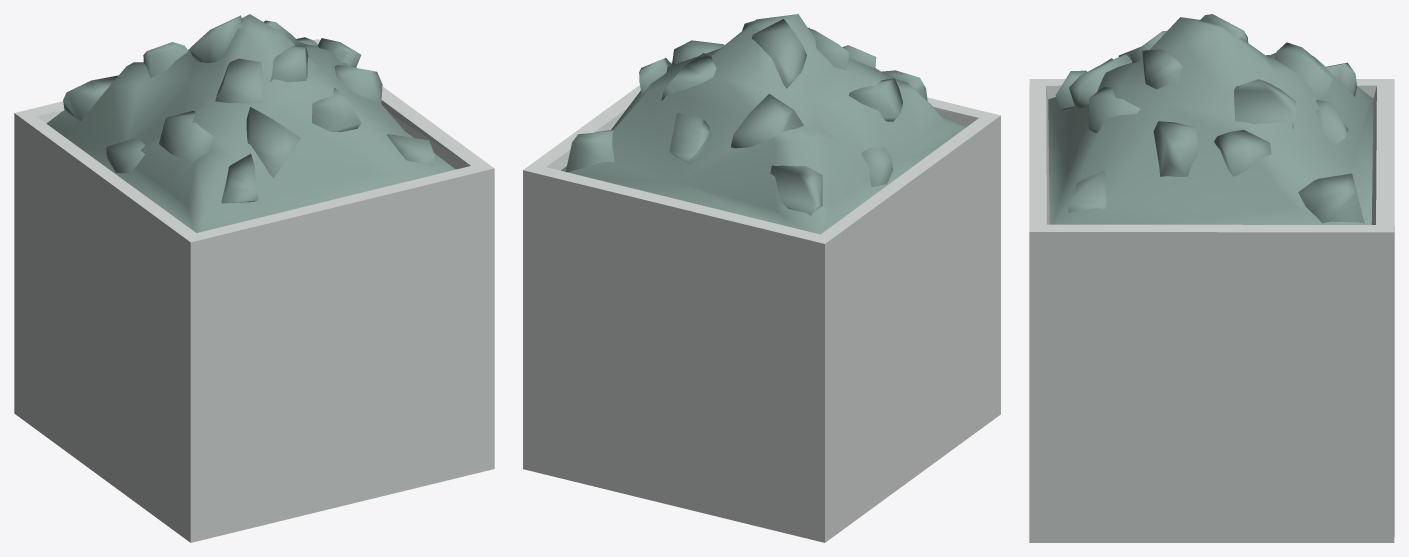
3 views of the same model, side by side, from view 1: azimuth 30°, elevation 25°; view 2: azimuth 150°, elevation 25°; view 3: azimuth 270°, elevation 25° (orthographic). The views are drawn at different scales.
Parts seen in each view (by area): view 1: G:\FFXIV-MapTools\exports\x6f2\bg\ex5\01_xkt_x6\fld\x6f2\bgp (×2); view 2: G:\FFXIV-MapTools\exports\x6f2\bg\ex5\01_xkt_x6\fld\x6f2\bgp (×2); view 3: G:\FFXIV-MapTools\exports\x6f2\bg\ex5\01_xkt_x6\fld\x6f2\bgp (×2).
Part boxes in pixels (box(x1,y1,x2,y2)): G:\FFXIV-MapTools\exports\x6f2\bg\ex5\01_xkt_x6\fld\x6f2\bgp (×2): box(14, 14, 494, 542); G:\FFXIV-MapTools\exports\x6f2\bg\ex5\01_xkt_x6\fld\x6f2\bgp (×2): box(523, 14, 1000, 542); G:\FFXIV-MapTools\exports\x6f2\bg\ex5\01_xkt_x6\fld\x6f2\bgp (×2): box(1029, 14, 1394, 542).
Size of the model in its own units: 1.04 by 1.39 by 1.04.
